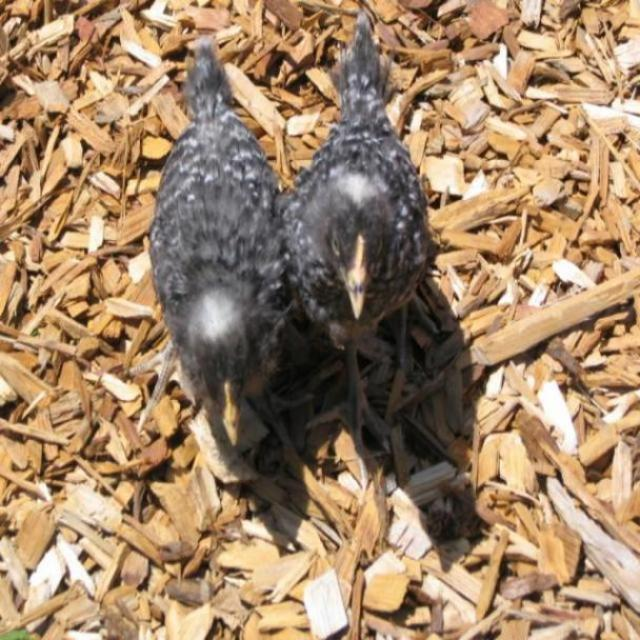Chicken: (120, 36, 294, 497), (277, 7, 428, 448)
